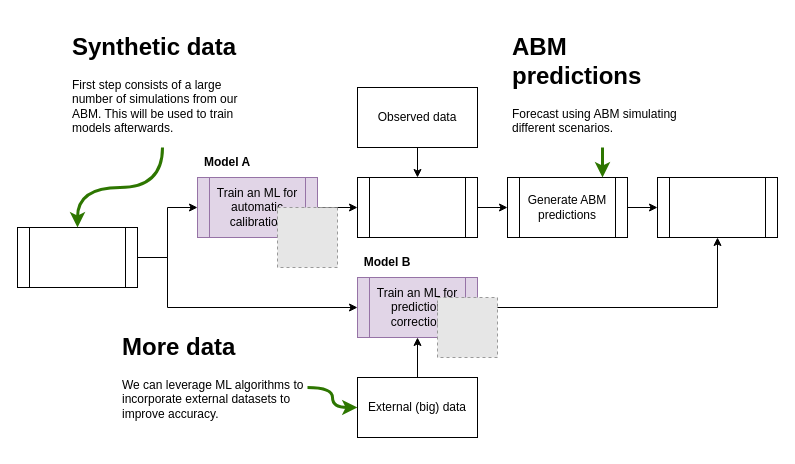
The diagram is 795 pixels wide and 464 high, and some of its shapes have lost their labels. Grey dashed boxes stand in for pictures. The shapes that lost their labels are listed below. From the top down, each one's box as (x1, y1, x2, y2) in pixels, then its label:
(356, 176, 478, 238): Automatic calibration with Model A
(656, 176, 778, 238): Correct Predictions using Model B
(16, 226, 138, 288): Generate Synthetic Data
